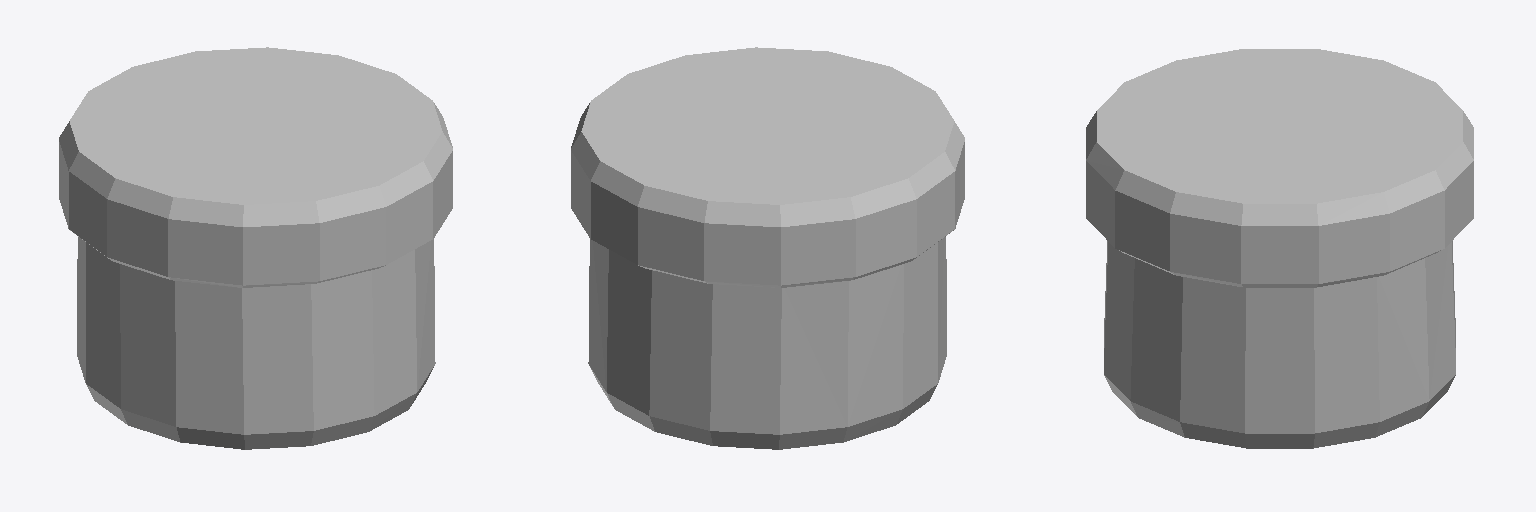
Rendered from tin_B_grey.obj.
3 renders of one model, left to right at view 1: azimuth 30°, elevation 25°; view 2: azimuth 150°, elevation 25°; view 3: azimuth 270°, elevation 25°, orthographic.
Parts seen in each view (by area): view 1: tin_B_grey; view 2: tin_B_grey; view 3: tin_B_grey.
Part boxes in pixels (left/top/right/bottom): tin_B_grey: left=59, top=47, right=452, bottom=449; tin_B_grey: left=571, top=47, right=964, bottom=449; tin_B_grey: left=1086, top=49, right=1473, bottom=448.
Bounding box in the file's own units: 0.4 × 0.2951 × 0.4.